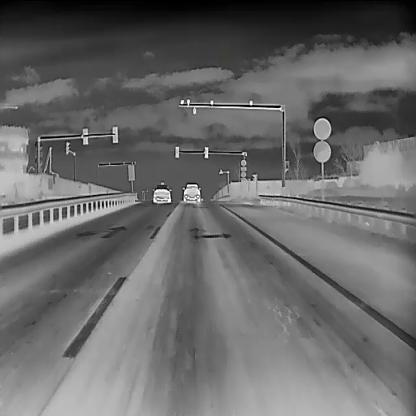car: (151, 183, 171, 203), (181, 182, 201, 202)
